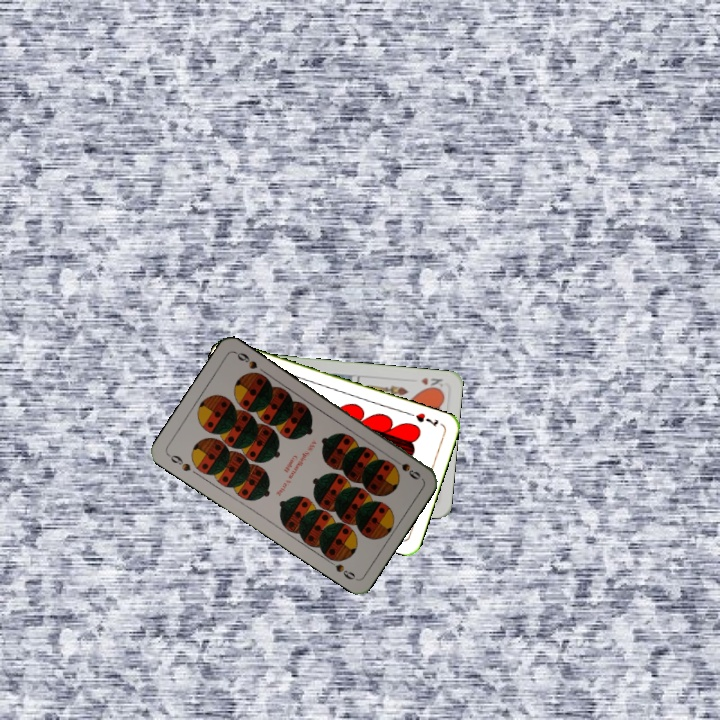H7: (404, 409, 441, 429)
HK: (417, 373, 446, 393)
S9: (387, 454, 423, 482), (164, 450, 194, 474)
